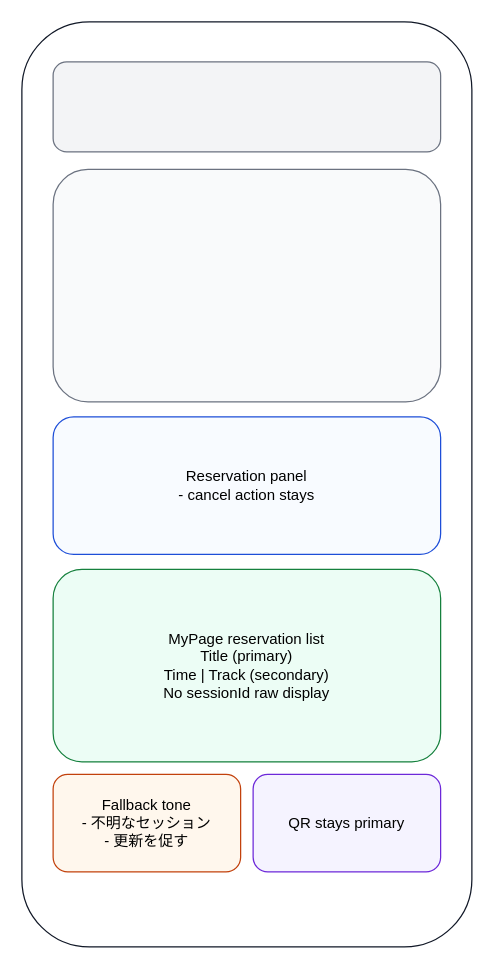
Some shapes in this 494 by 969 pixel diagram are drawn without their labels. Here are the shapes that lost their labels. From the top down, the centre of each, then its label:
At pixel 246 106: "Participant header".
At pixel 246 285: "Session list (existing)".
